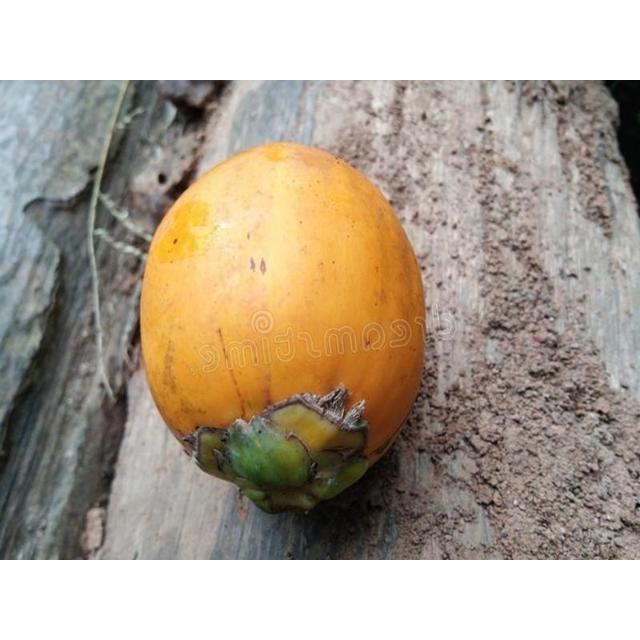good: (138, 143, 426, 516)
